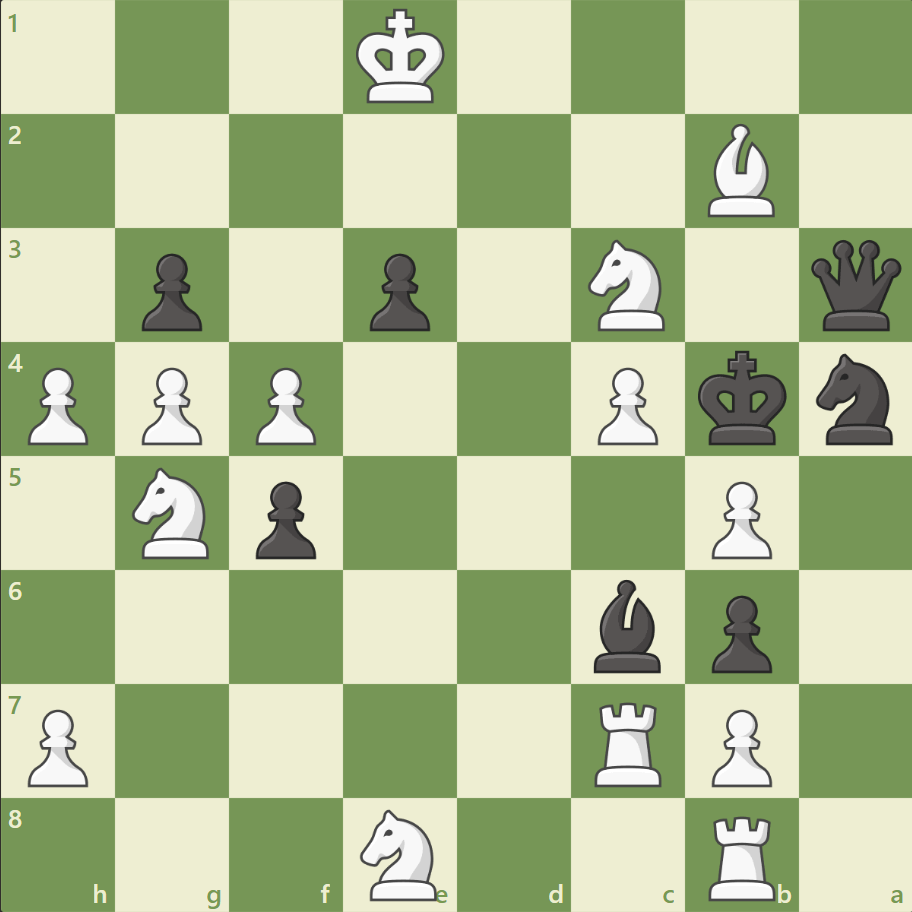B: (698, 120, 782, 222)
K: (351, 4, 451, 112)
N: (124, 461, 222, 564), (351, 802, 449, 904), (579, 234, 676, 337)
P: (701, 700, 776, 791), (20, 700, 95, 791), (701, 473, 776, 564), (247, 359, 322, 450), (133, 359, 208, 450), (20, 359, 95, 450), (588, 359, 662, 450)
R: (700, 806, 783, 904), (587, 693, 670, 790)
b: (585, 574, 669, 676)
k: (692, 344, 792, 452)
n: (806, 348, 903, 450)
p: (701, 586, 776, 677), (247, 473, 322, 564), (133, 246, 208, 337), (361, 246, 435, 337)
q: (805, 236, 904, 335)
